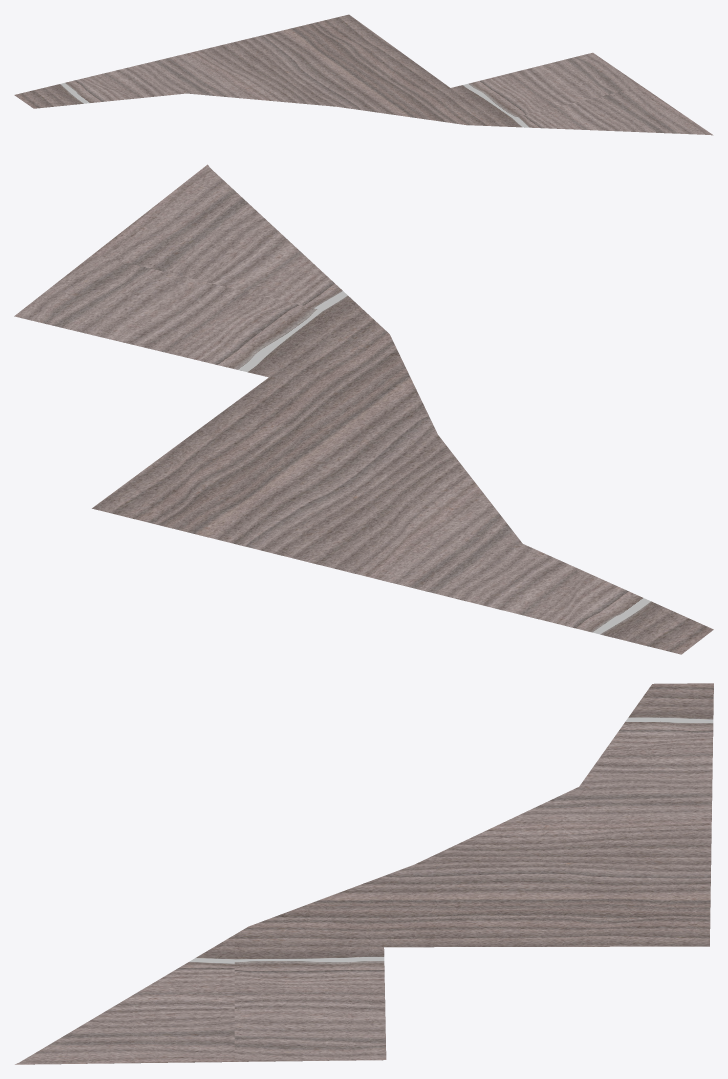
File: sand 2.fbx
3 renders of one model, top to bottom at view 1: azimuth 30°, elevation 25°; view 2: azimuth 150°, elevation 25°; view 3: azimuth 270°, elevation 25°, orthographic. The views are drawn at different scales.
Visible parts, largest first — view 1: Sand:Sand; view 2: Sand:Sand; view 3: Sand:Sand.
Part boxes in pixels (x1,y1,x2,y2): Sand:Sand: [14, 14, 713, 135]; Sand:Sand: [14, 164, 713, 654]; Sand:Sand: [15, 683, 713, 1064].
Size of the model in its own units: 28.46 by 0.000731 by 22.07.
Materials: 1 (1 with a texture image).
